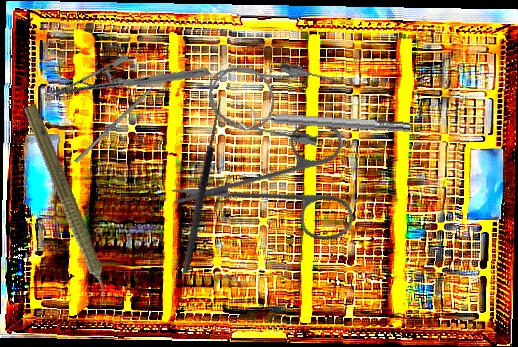Cannula: (201, 49, 340, 149)
Fixation Ring: (238, 103, 411, 142)
Handpiece: (15, 102, 120, 310)
Hook Surgical: (172, 93, 226, 275)
Iris Scissors: (166, 72, 393, 299)
Needle Holder: (50, 7, 212, 158)
Pusher: (73, 70, 171, 164)
